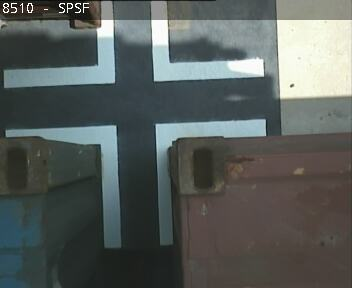groundmarker_1: (6, 117, 266, 247), (4, 1, 263, 90)
